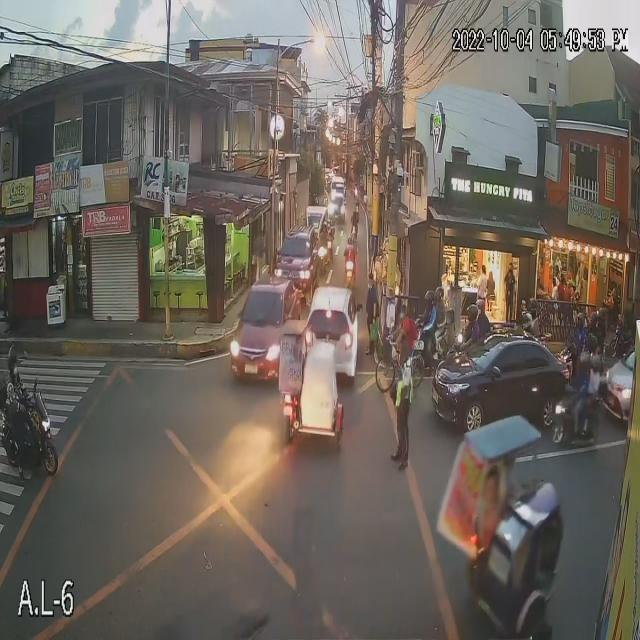helmet: (2, 338, 28, 386), (588, 328, 607, 360), (568, 349, 588, 375), (516, 310, 535, 333), (418, 291, 435, 315), (569, 312, 589, 332), (462, 303, 480, 323), (525, 296, 543, 316), (584, 309, 598, 331), (473, 296, 490, 314), (434, 285, 448, 305), (347, 236, 353, 245)
motorcycle: (0, 390, 60, 485), (544, 390, 609, 454), (338, 253, 361, 287)
rider: (2, 334, 36, 443), (567, 349, 594, 423), (469, 290, 493, 350), (432, 280, 455, 339), (586, 349, 606, 415), (566, 305, 590, 355), (529, 293, 550, 350), (590, 300, 613, 350), (458, 301, 480, 346), (422, 291, 437, 344), (520, 303, 534, 351), (344, 234, 356, 262)
